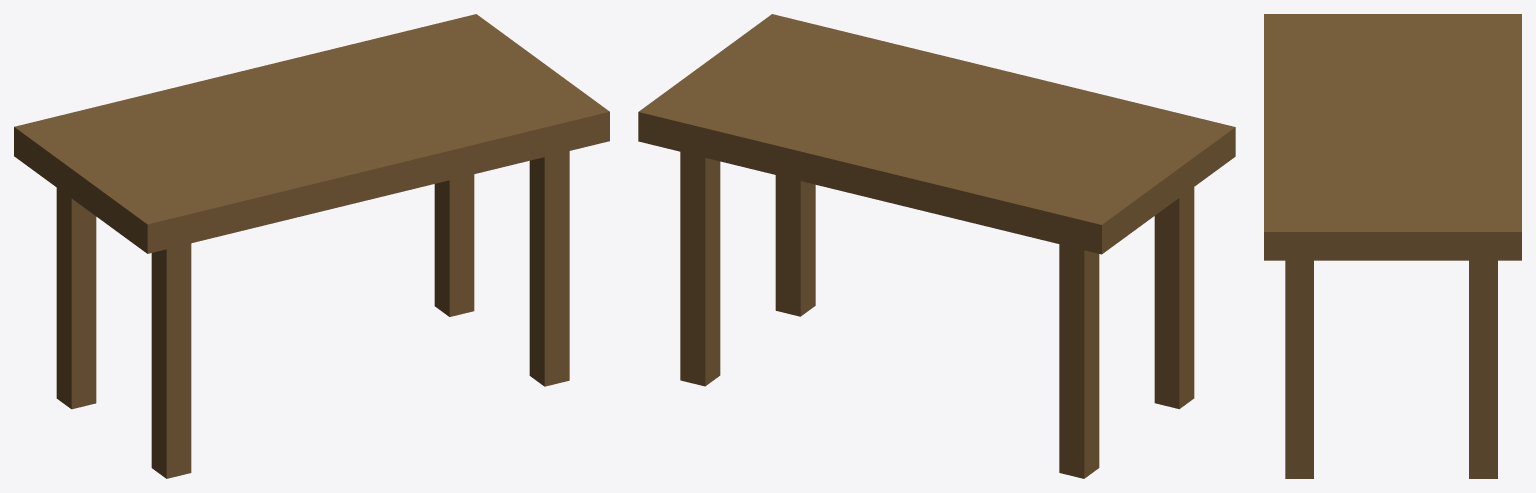
File: LowPoly_Table01.fbx
3 renders of one model, left to right at view 1: azimuth 30°, elevation 25°; view 2: azimuth 150°, elevation 25°; view 3: azimuth 270°, elevation 25°, orthographic. The views are drawn at different scales.
Parts seen in each view (by area): view 1: Cube; view 2: Cube; view 3: Cube.
Boxes of the visible parts, x1=… form: Cube: x1=14, y1=14, x2=609, y2=478; Cube: x1=638, y1=14, x2=1235, y2=478; Cube: x1=1264, y1=14, x2=1521, y2=478.
Size of the model in its own units: 200 by 112 by 100.
